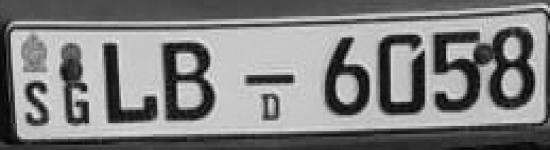-: (240, 70, 300, 92)
0: (377, 32, 429, 126)
5: (432, 19, 488, 116)
6: (309, 31, 376, 125)
8: (490, 17, 542, 117)
B: (161, 34, 222, 130)
G: (61, 72, 98, 134)
L: (100, 35, 160, 130)
S: (19, 77, 58, 132)
